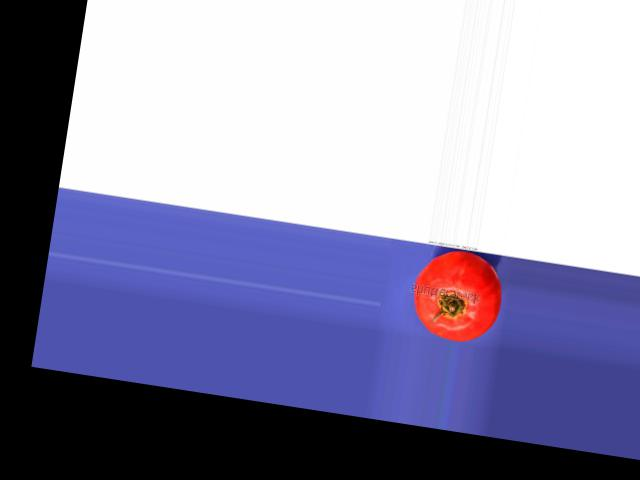tomato: (408, 246, 508, 346)
